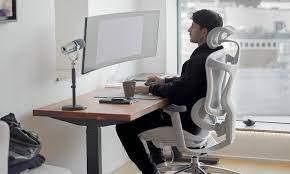Good Sitting Posture: (108, 11, 256, 132)
